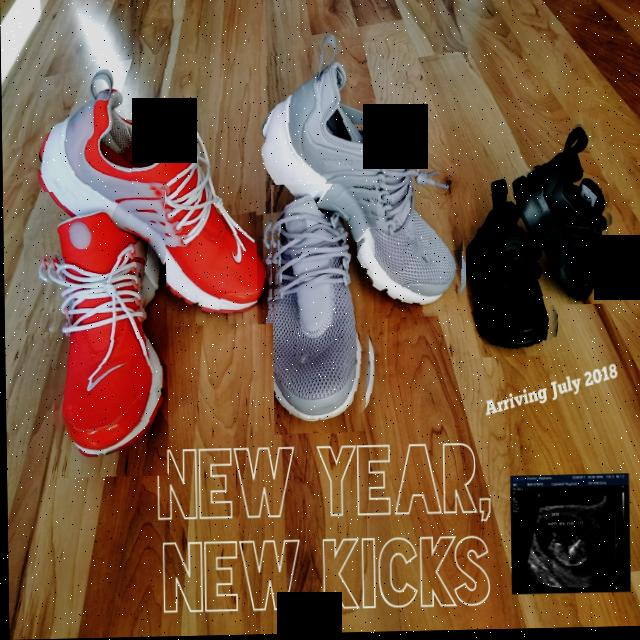shoe: (21, 53, 282, 334), (254, 54, 473, 326), (42, 190, 168, 478), (270, 185, 381, 437), (506, 122, 617, 308), (464, 168, 565, 360)
